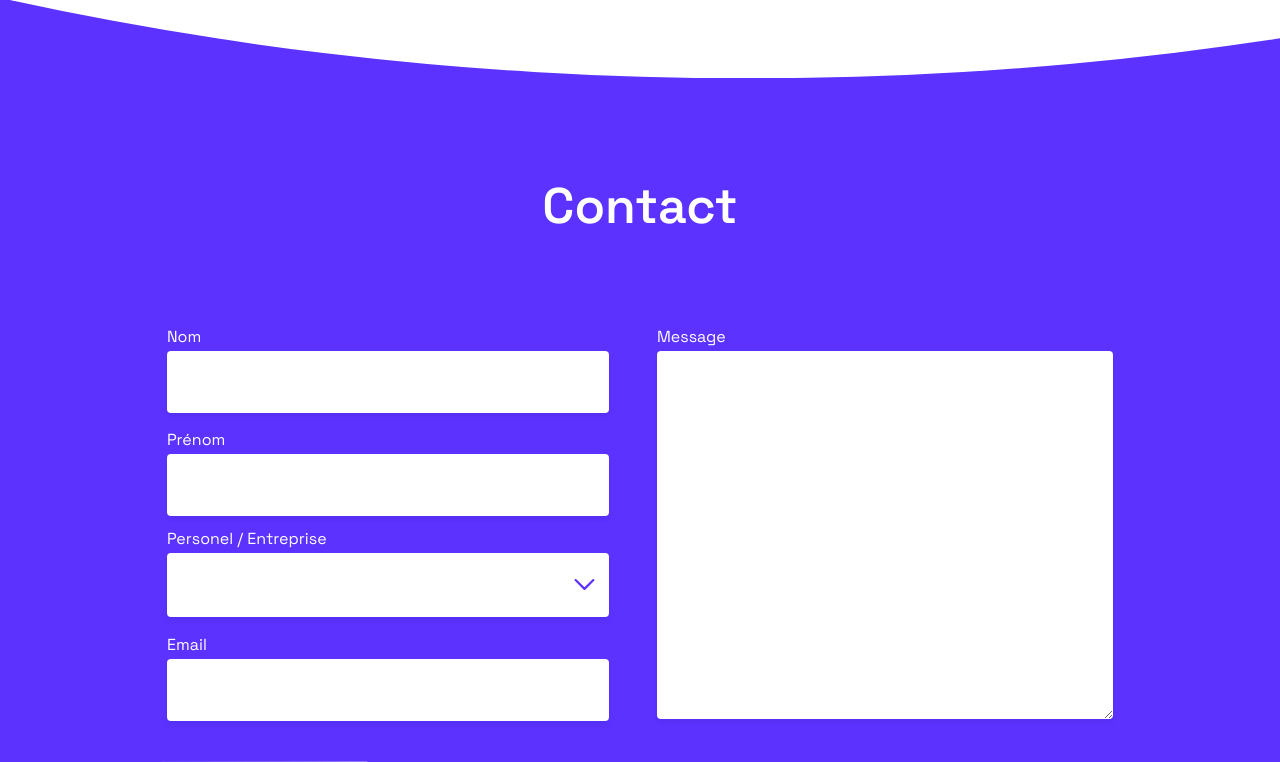
Page d'accueil avec un formulaire › Interactions avec le formulaire › affiche 'En cours', montre le message de succès et met à jour le texte du bouton
(page scrolled)
Type "Test" into the 1st field with test id "field-testid". click: (388, 382)
box: [167,351,609,413]
Type "Test" into the field with test id "field-testid" below "Prénom". click: (388, 485)
box: [167,454,609,516]
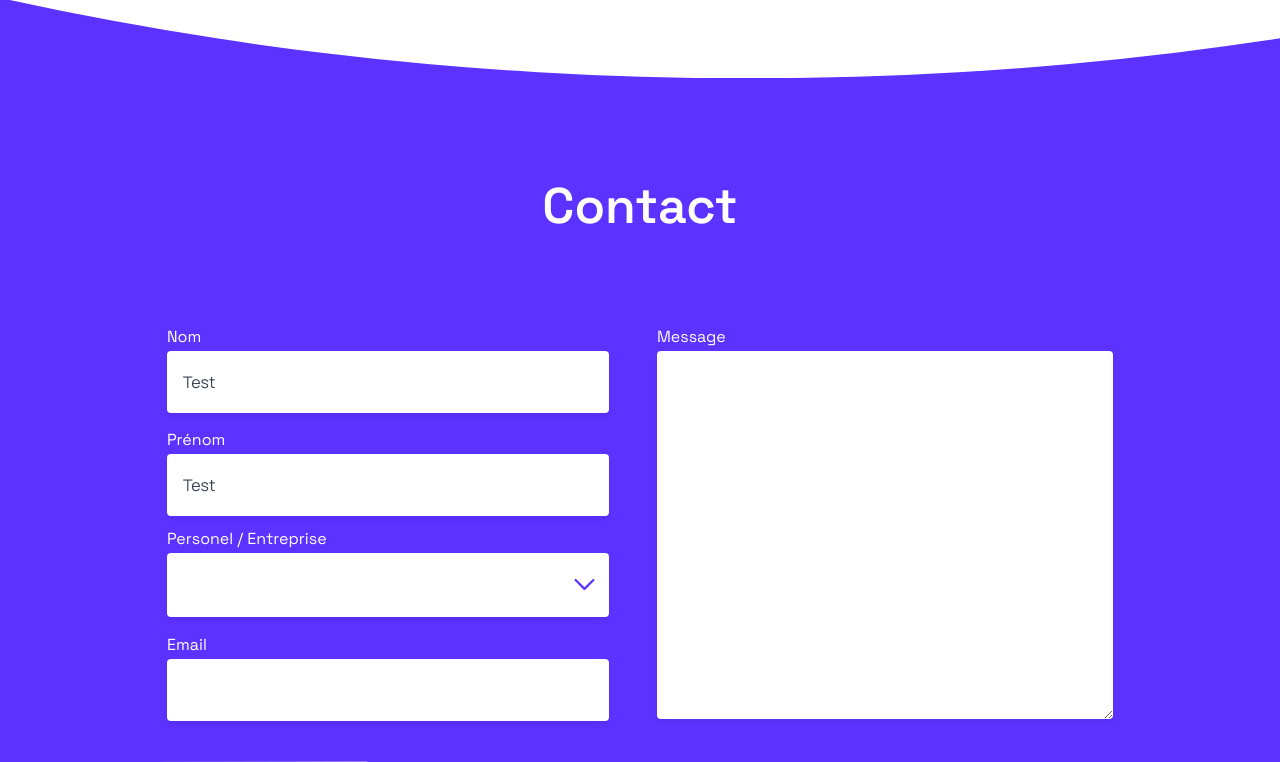
Type "Test" into the field with test id "field-testid" below "Email". click: (388, 690)
box: [167,659,609,721]
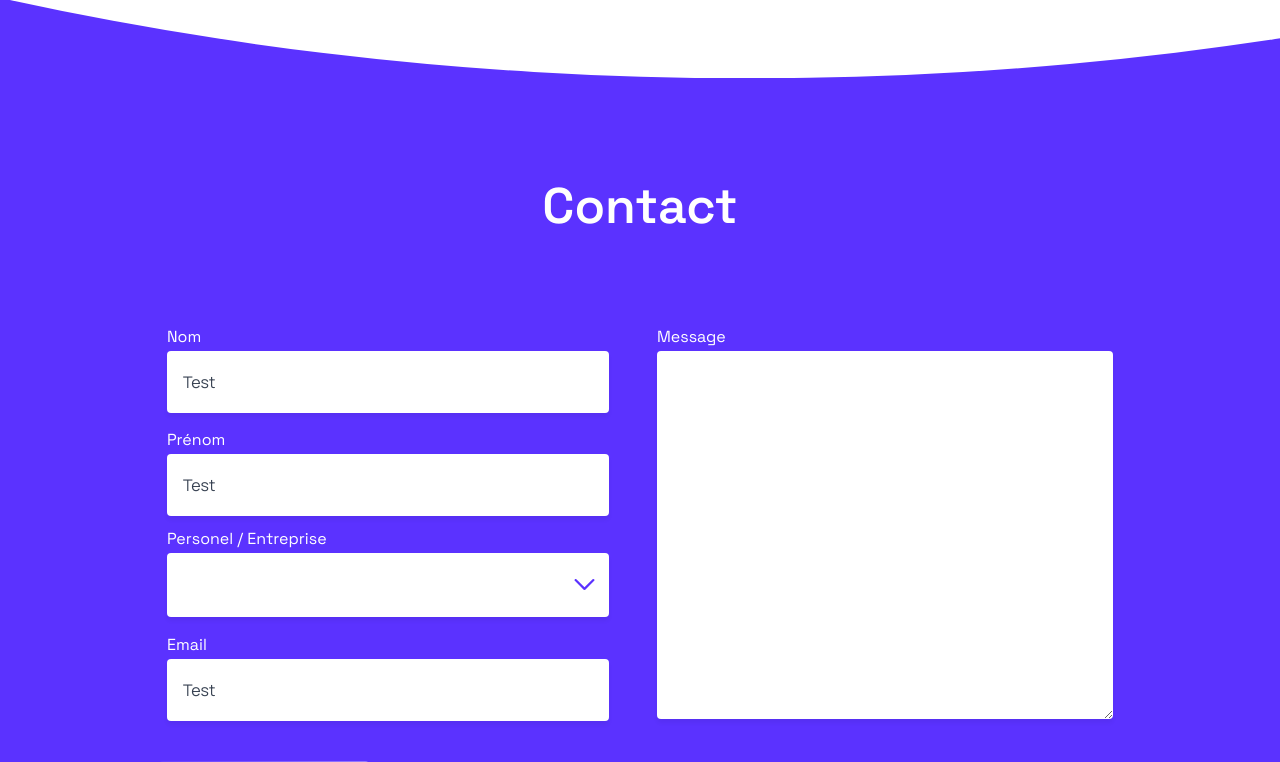
Type "Test" into the 2nd text box with test id "field-testid". click: (885, 535)
box: [657,351,1113,719]
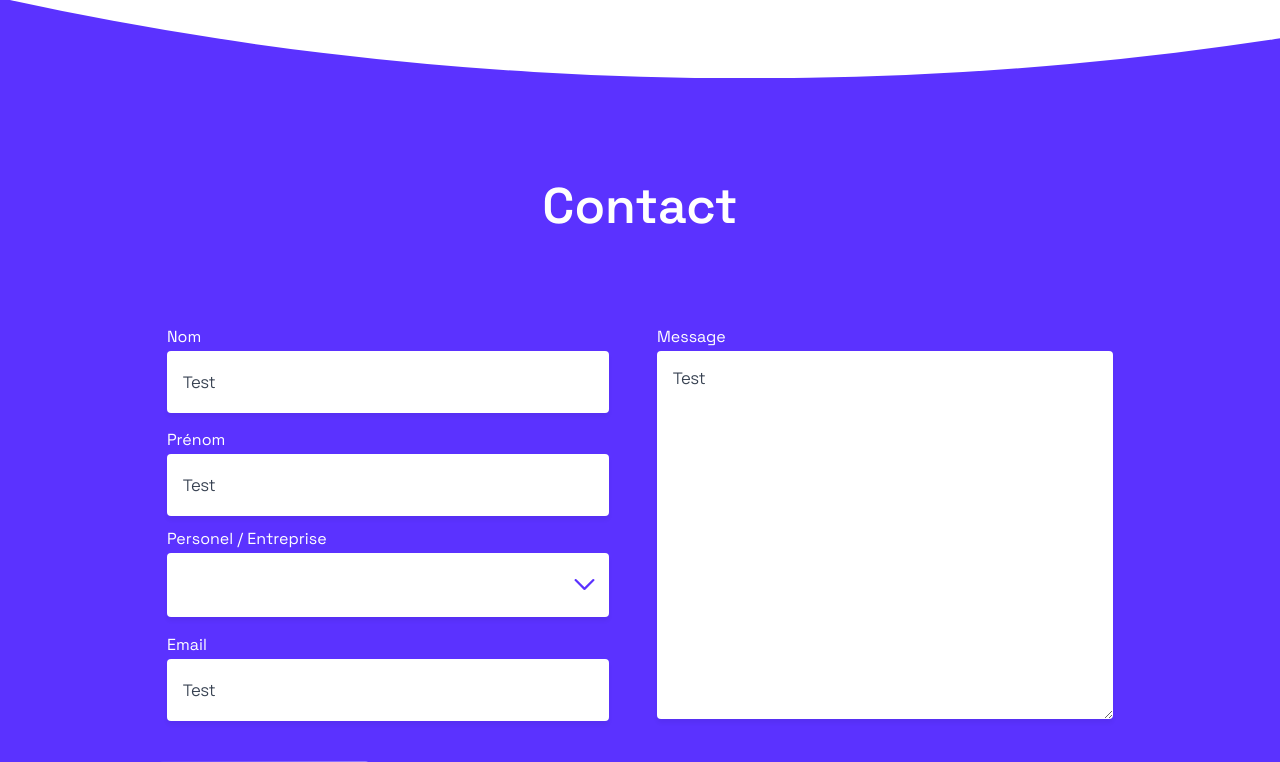
Click the button with test id "collapse-button-testid". click: (584, 585)
box: [568,569,601,601]
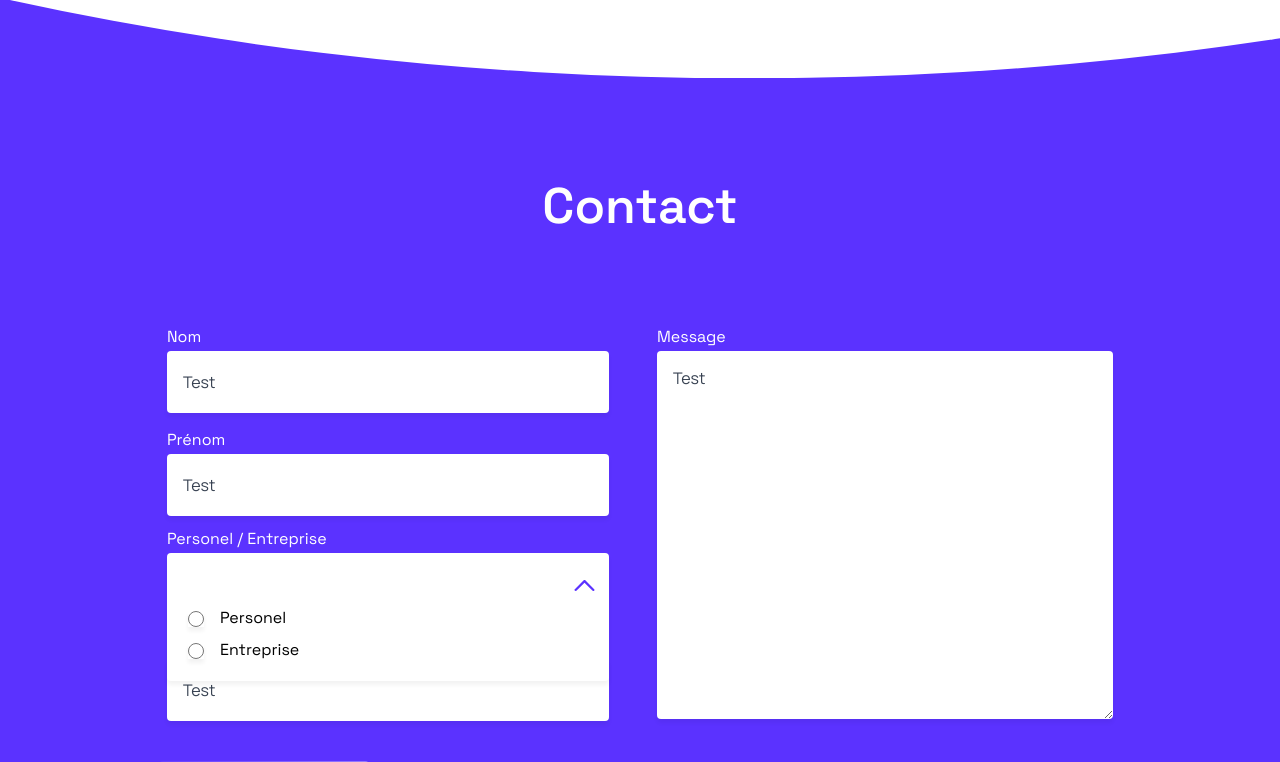
Click the list item "Personel". click: (237, 617)
box: [188,607,286,628]
(page scrolled)
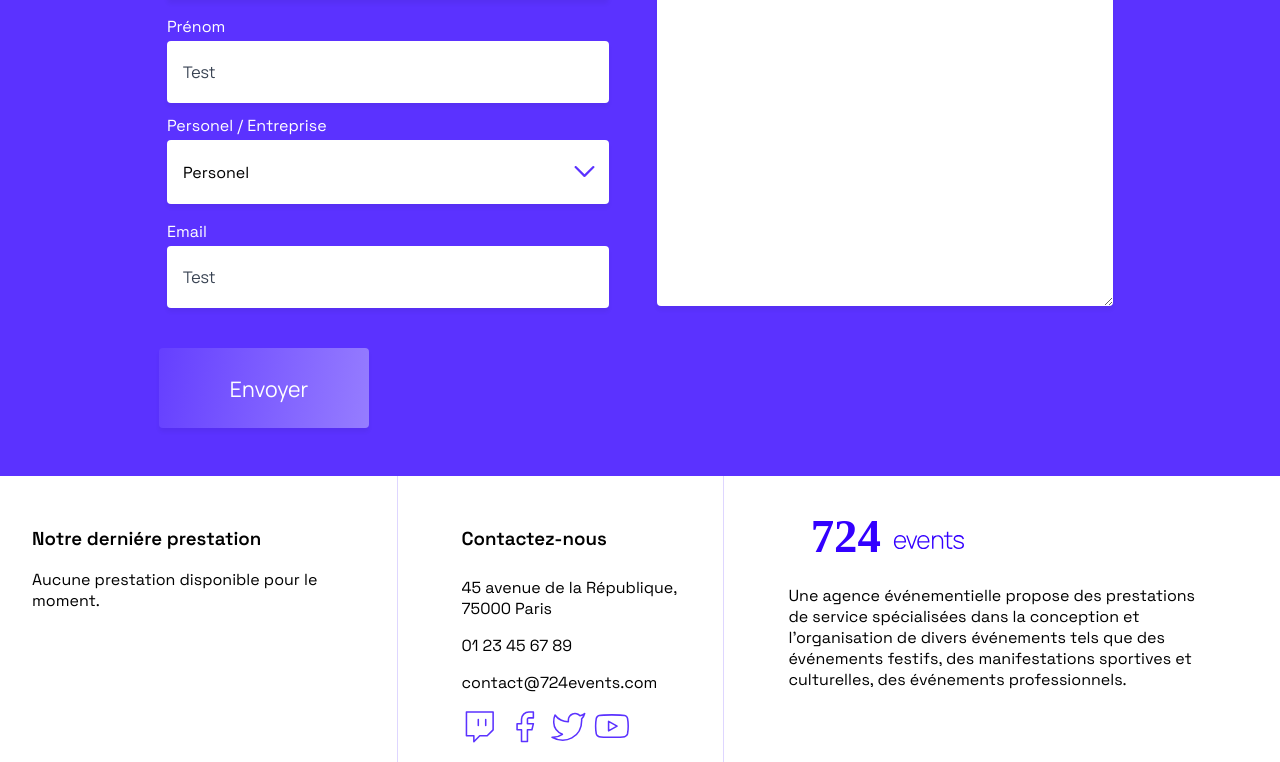
Click the button with test id "button-test-id". click: (264, 388)
box: [159,348,369,428]
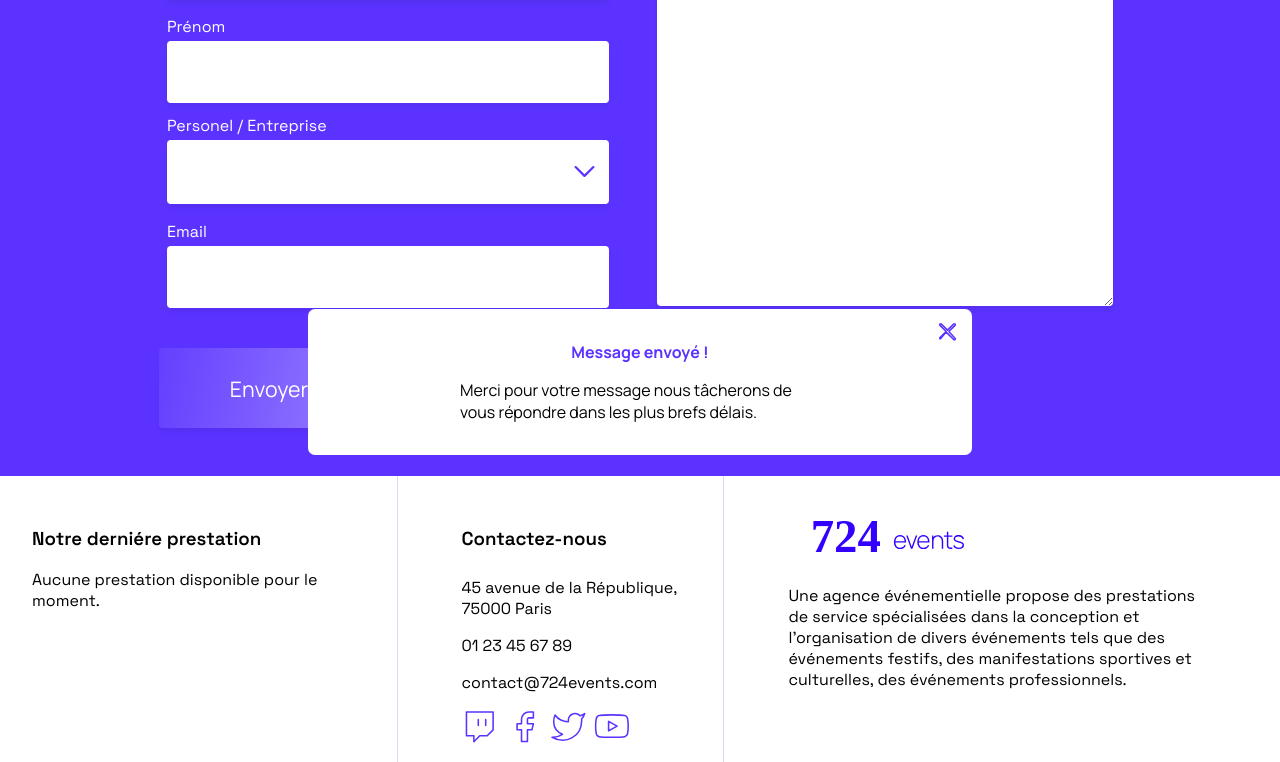
Expected: the text "Message envoyé !" is shown, [571,341,709,363]
